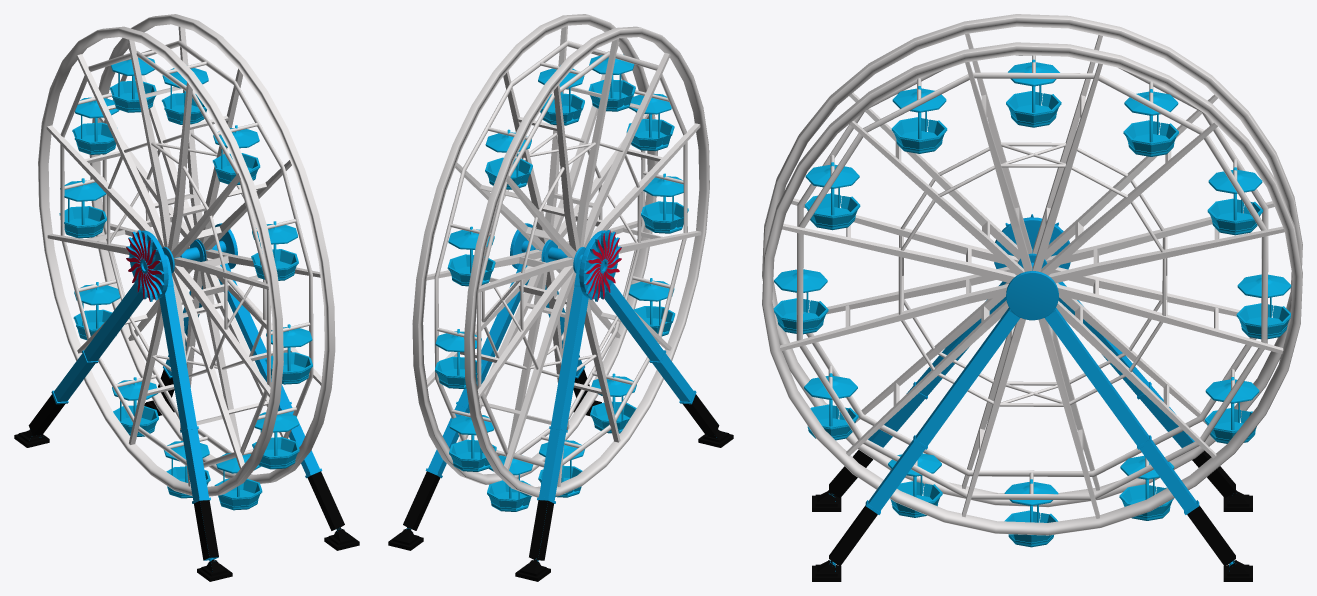
The model's file is Riesenrad.fbx.
3 renders of one model, left to right at view 1: azimuth 30°, elevation 25°; view 2: azimuth 150°, elevation 25°; view 3: azimuth 270°, elevation 25°, orthographic. The views are drawn at different scales.
Parts seen in each view (by area): view 1: Arm.001, Ferris foot base.003, Car Main.003, Car Main.004, Car Main.011, Car Main.005, Car Main.010, Car Main.008, Car Main.002, Car Main.012, Car Main.001, Car Main.007 (+2 smaller); view 2: Arm.001, Ferris foot base.003, Car Main.010, Car Main.008, Car Main.002, Car Main.007, Car Main.003, Car Main.004, Car Main.011, Car Main.001, Car Main.012, Car Main.005 (+2 smaller); view 3: Arm.001, Ferris foot base.003, Car Main.007, Car Main.005, Car Main.006, Car Main.008, Car Main.004, Car Main.003, Car Main.010, Car Main.002, Car Main.011, Car Main.009 (+2 smaller).
Boxes of the visible parts, bbox=[...] form: Arm.001: bbox=[38, 14, 335, 496]; Ferris foot base.003: bbox=[14, 223, 359, 581]; Car Main.003: bbox=[59, 178, 106, 238]; Car Main.004: bbox=[72, 97, 119, 154]; Car Main.011: bbox=[252, 412, 299, 469]; Car Main.005: bbox=[109, 57, 156, 112]; Car Main.010: bbox=[265, 324, 312, 384]; Car Main.008: bbox=[251, 221, 298, 280]; Car Main.002: bbox=[73, 282, 120, 340]; Car Main.012: bbox=[214, 453, 262, 510]; Car Main.001: bbox=[112, 377, 158, 436]; Car Main.007: bbox=[212, 125, 260, 184]; Arm.001: bbox=[412, 14, 709, 497]; Ferris foot base.003: bbox=[388, 223, 733, 581]; Car Main.010: bbox=[641, 173, 688, 233]; Car Main.008: bbox=[626, 93, 674, 151]; Car Main.002: bbox=[449, 415, 496, 471]; Car Main.007: bbox=[588, 54, 635, 111]; Car Main.003: bbox=[435, 329, 482, 388]; Car Main.004: bbox=[447, 226, 495, 286]; Car Main.011: bbox=[628, 278, 675, 336]; Car Main.001: bbox=[487, 455, 533, 511]; Car Main.012: bbox=[590, 373, 636, 433]; Car Main.005: bbox=[485, 129, 532, 189]; Arm.001: bbox=[762, 14, 1302, 535]; Ferris foot base.003: bbox=[812, 214, 1252, 581]; Car Main.007: bbox=[891, 86, 947, 153]; Car Main.005: bbox=[1123, 89, 1178, 156]; Car Main.006: bbox=[1006, 59, 1061, 127]; Car Main.008: bbox=[804, 162, 860, 230]; Car Main.004: bbox=[1207, 167, 1263, 235]; Car Main.003: bbox=[1236, 274, 1291, 339]; Car Main.010: bbox=[773, 269, 828, 334]; Car Main.002: bbox=[1204, 377, 1259, 443]; Car Main.011: bbox=[804, 373, 858, 440]; Car Main.009: bbox=[1004, 479, 1058, 547].
Bounding box in the file's own units: 824 × 2391 × 2289.
